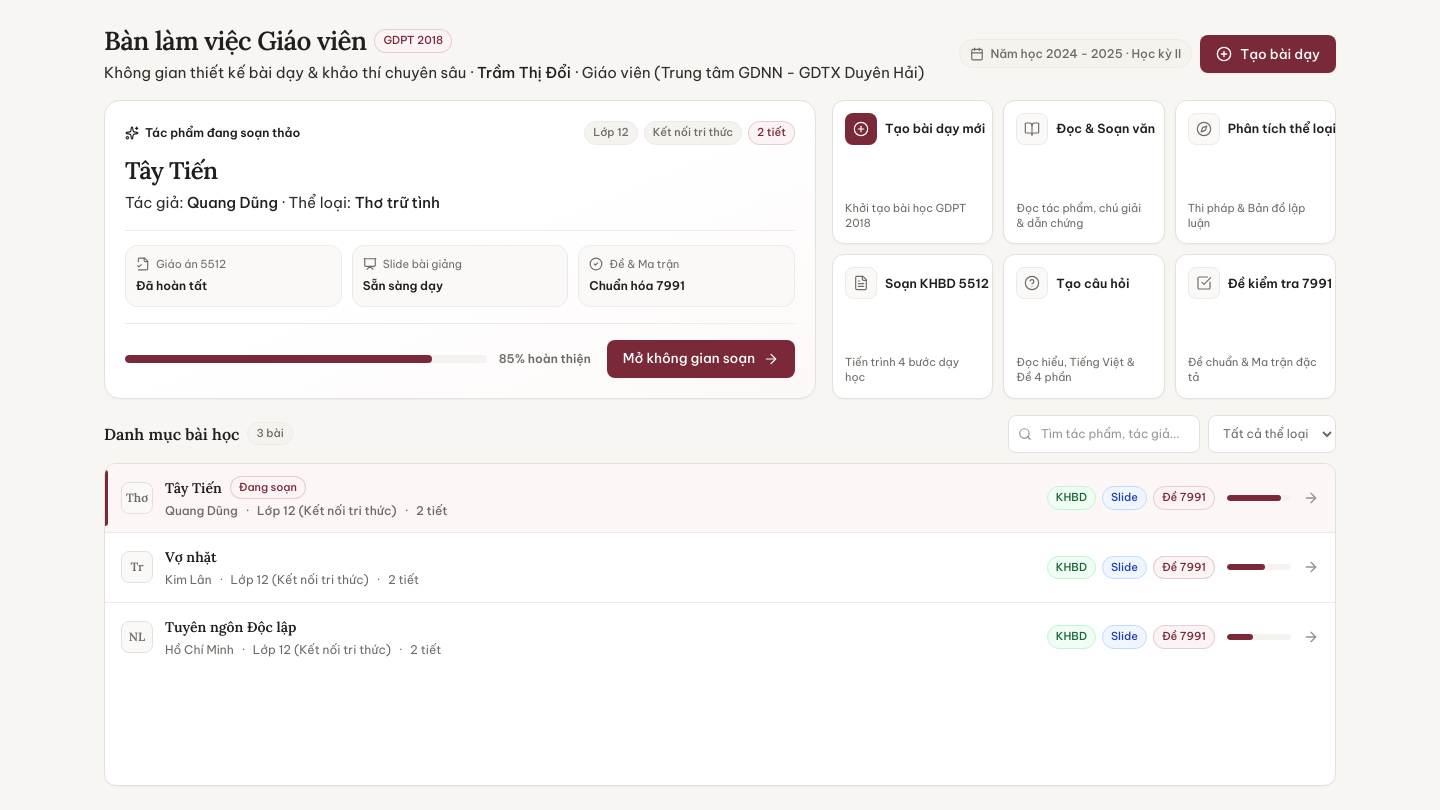
Functional: TeacherDashboard & Lesson Lifecycle › Create Lesson Modal & Validation Flow › opens create lesson modal on clicking "Tạo bài dạy"
Click the button "Tạo bài dạy".
click(1268, 54)  # box x1=1200 y1=35 x2=1336 y2=73
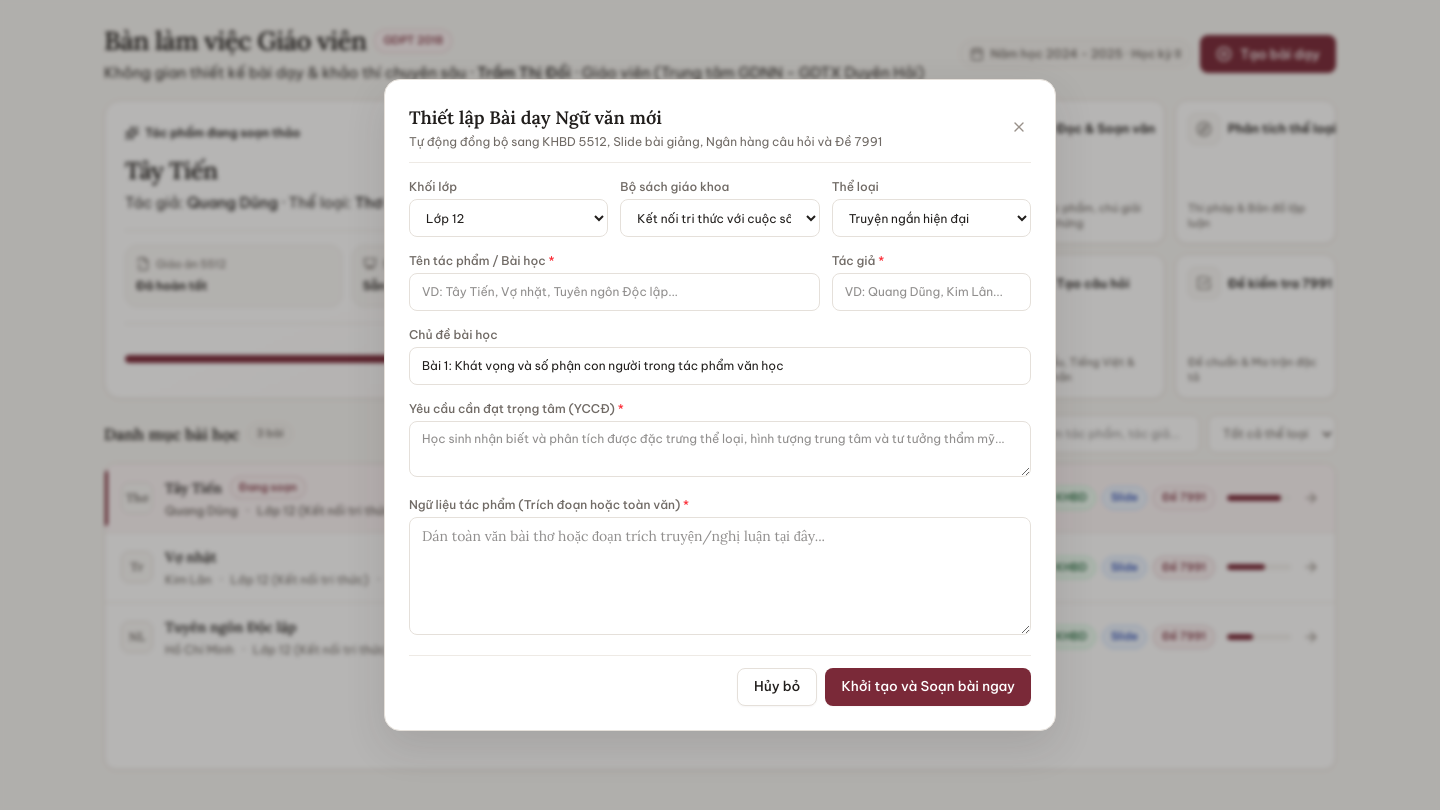
Expected: the heading "Thiết lập Bài dạy Ngữ văn mới" is shown, x1=409 y1=106 x2=662 y2=129
